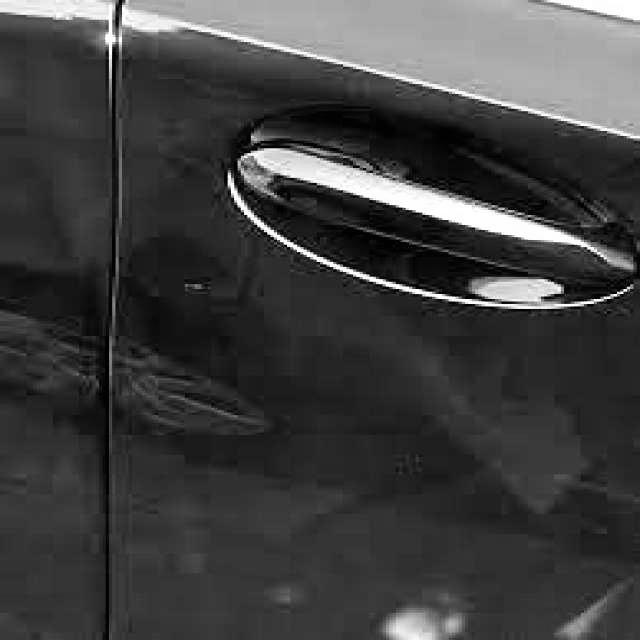doorouter-dent: (0, 0, 636, 618)
